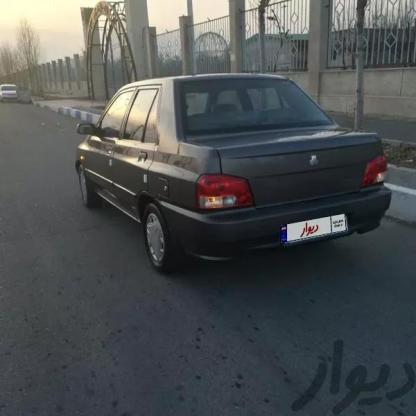Car: (82, 50, 372, 283), (0, 75, 28, 104)
